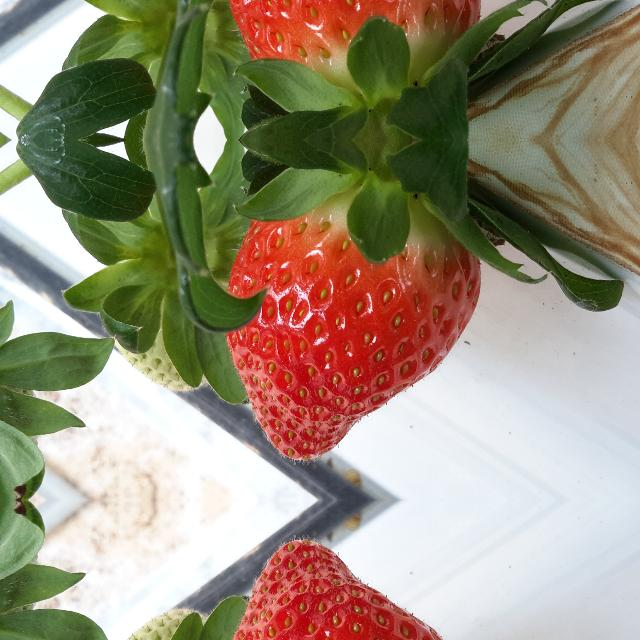Health_100: (223, 187, 482, 461), (223, 539, 482, 640), (223, 0, 482, 93)
